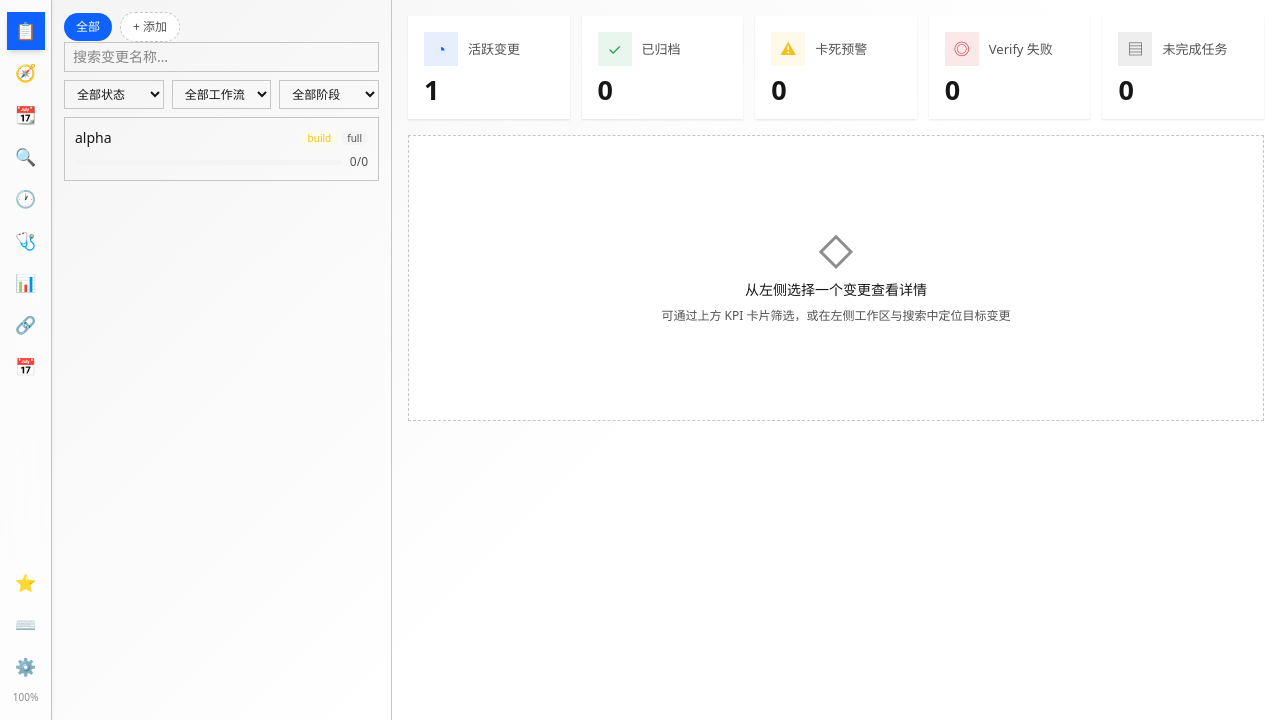
App › starring a doc in MarkdownViewer adds it to the bookmark panel, and clicking it there reopens it
Step 1. Click the text "alpha" → (93,138), box [75, 128, 112, 148]
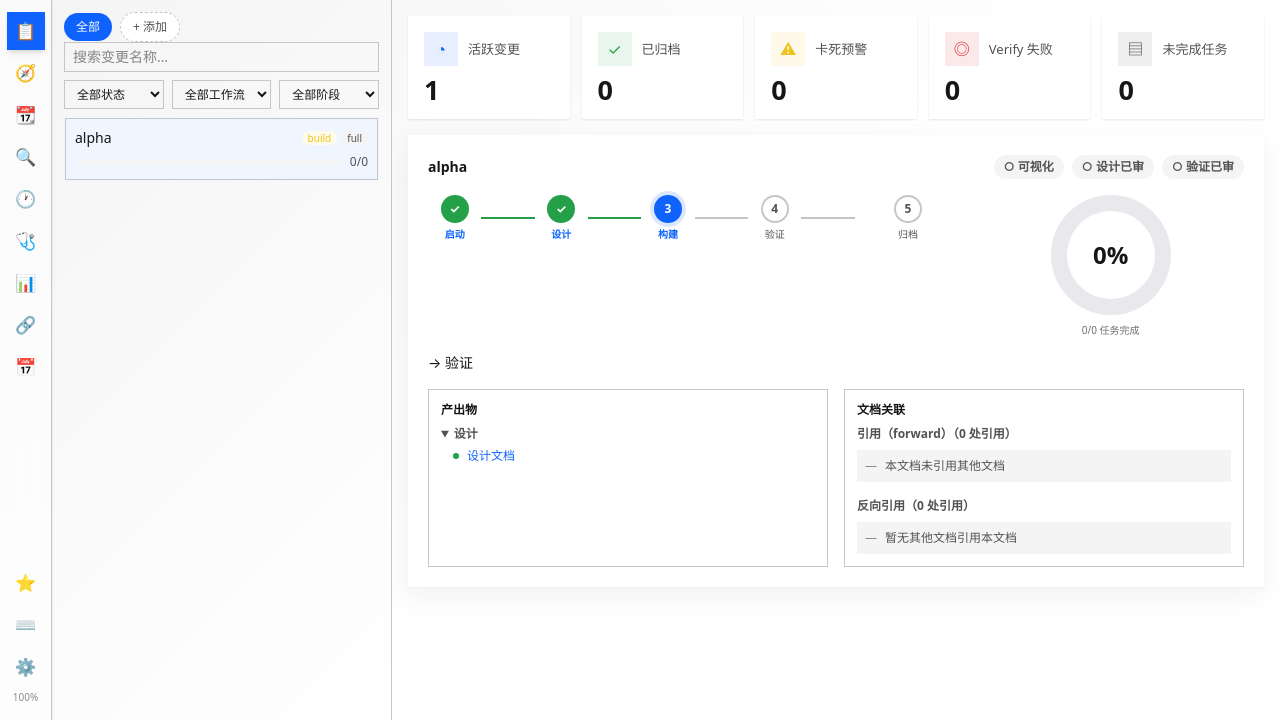
Step 2. Click the button "设计文档" → (491,456), box [467, 448, 515, 464]
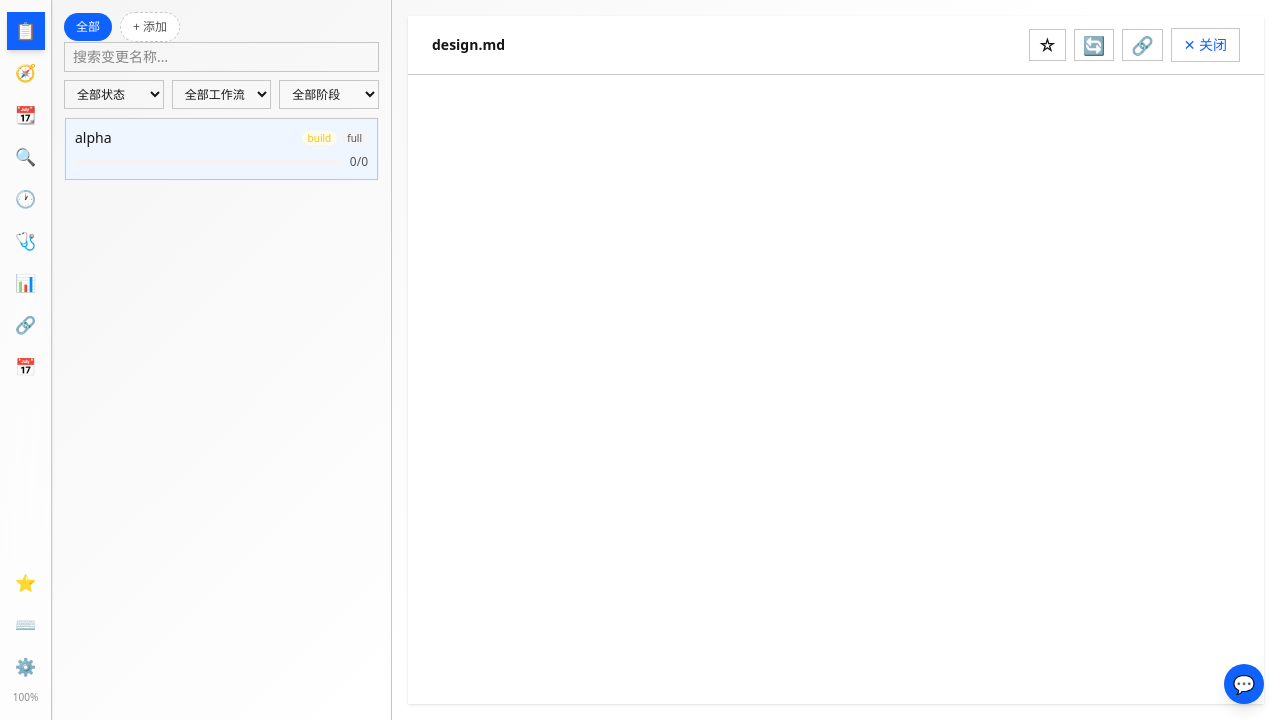
expect the button "✕ 关闭" is shown: met, box [1171, 28, 1240, 62]
Step 3. Click the button named "收藏" → (1047,45), box [1029, 29, 1066, 61]
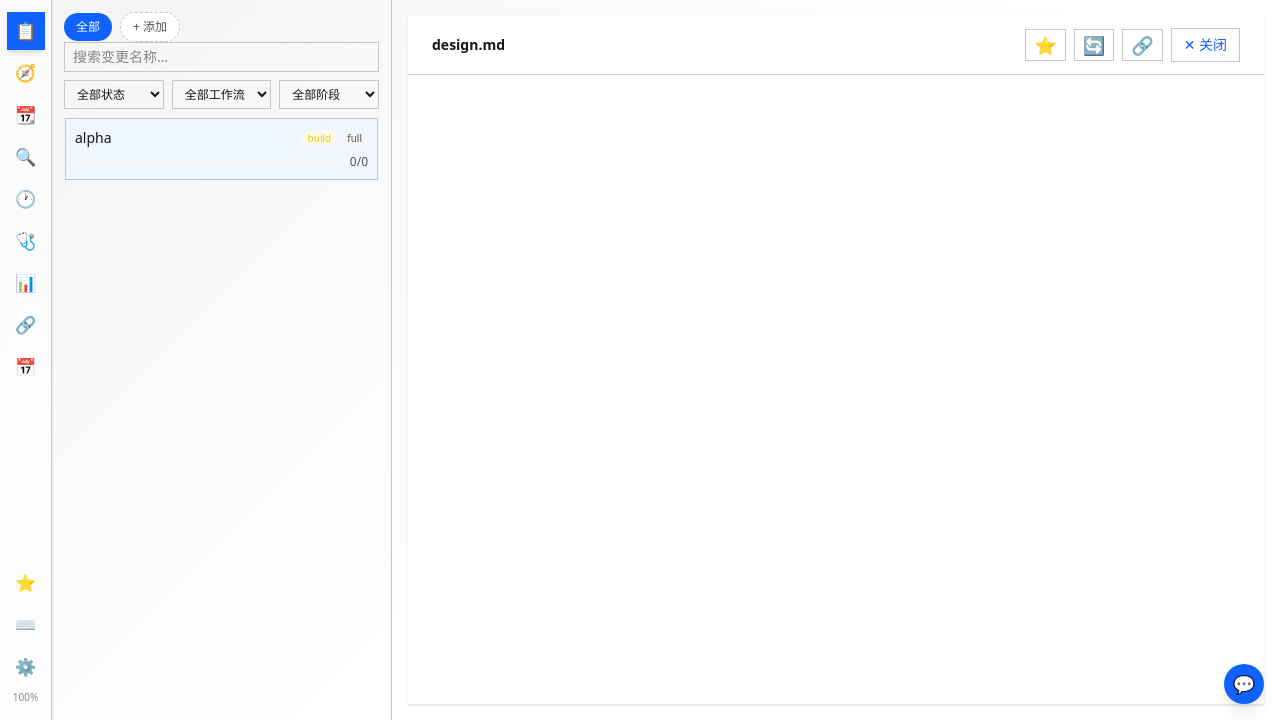
Step 4. Click the button "✕ 关闭" → (1205,45), box [1171, 28, 1240, 62]
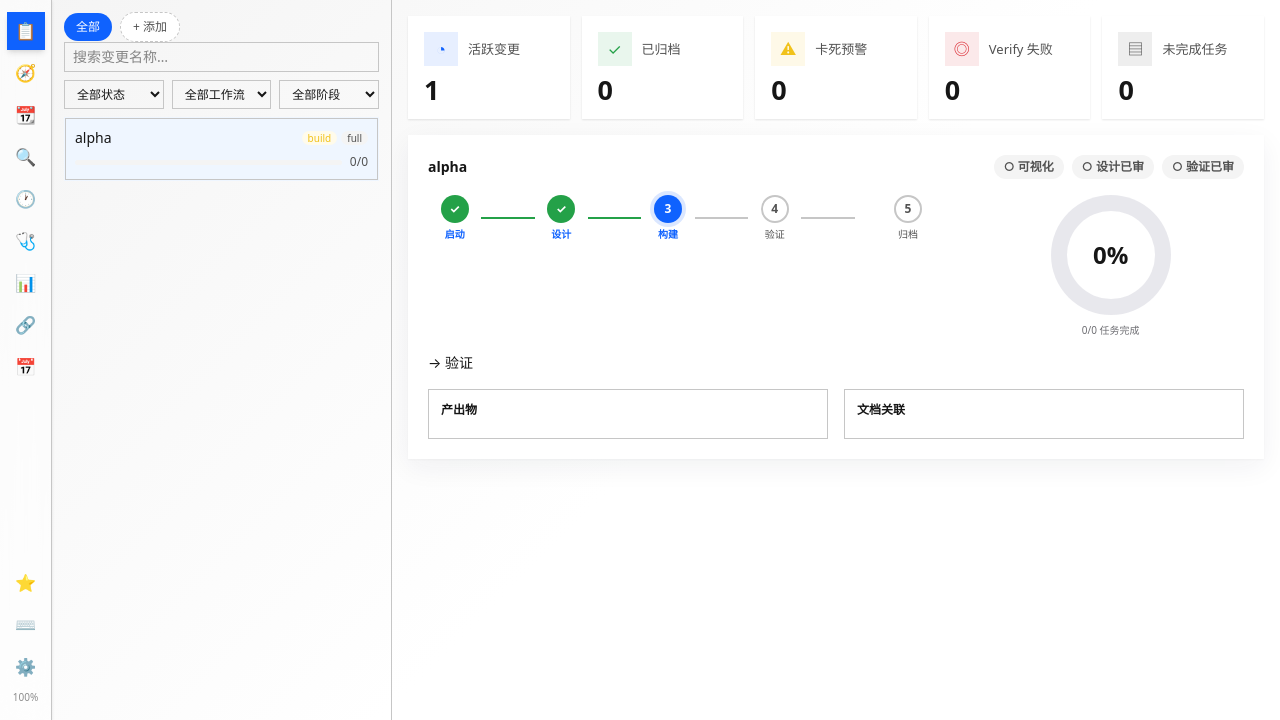
Step 5. Click the button named "收藏夹" → (26,583), box [6, 564, 44, 602]
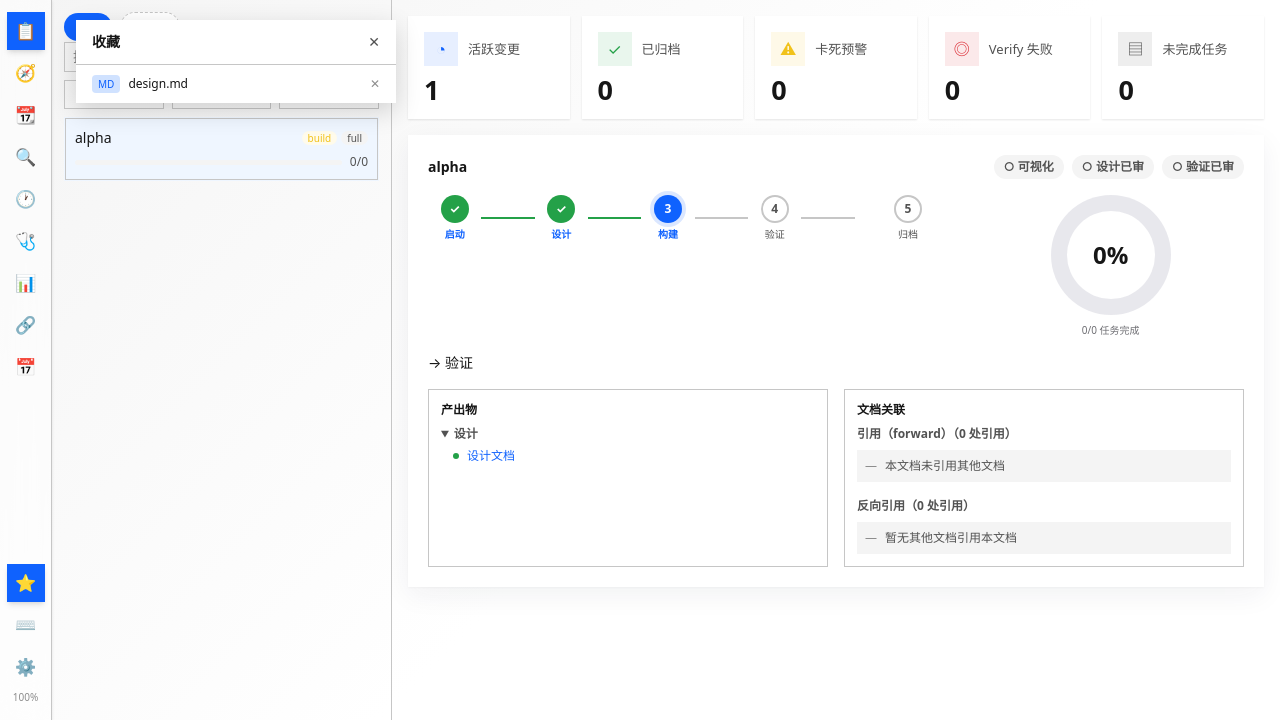
expect the element with test id "bookmark-panel" is shown: met, box [76, 20, 396, 103]
Step 6. Click the text "design.md" → (158,84), box [128, 76, 188, 92]
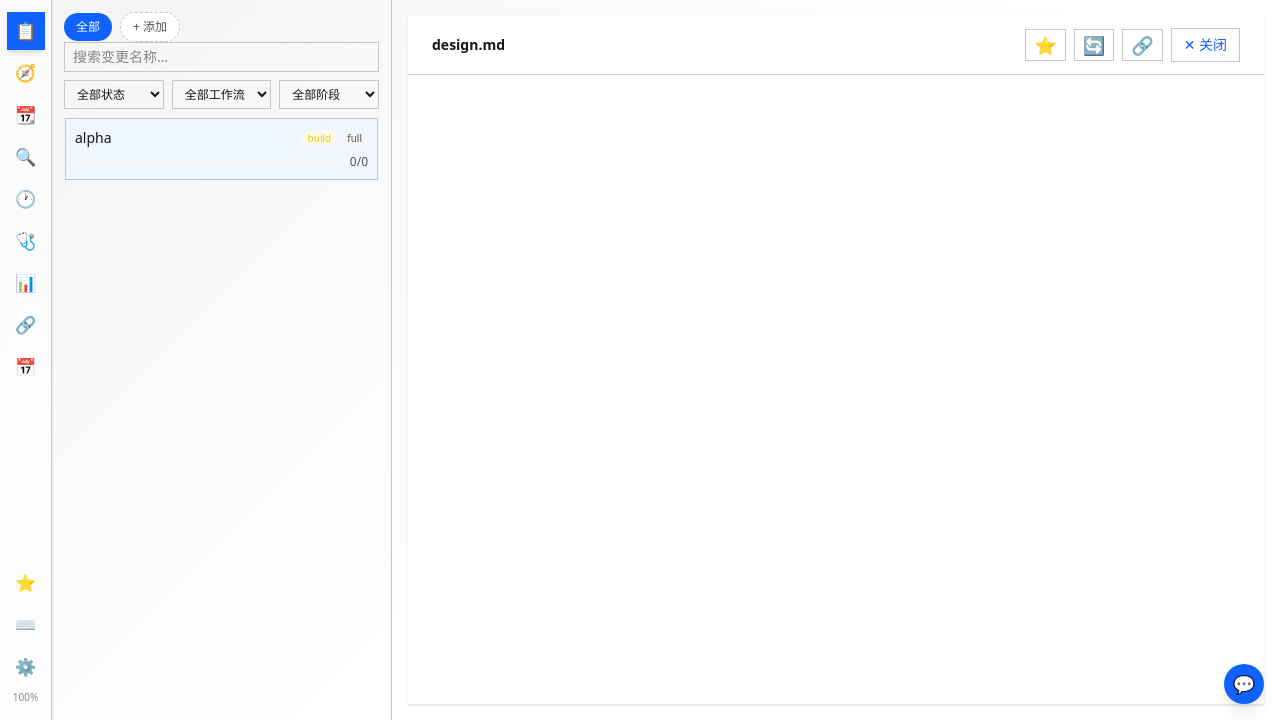
expect the element with test id "bookmark-panel" is gone: met
expect the button "✕ 关闭" is shown: met, box [1171, 28, 1240, 62]
